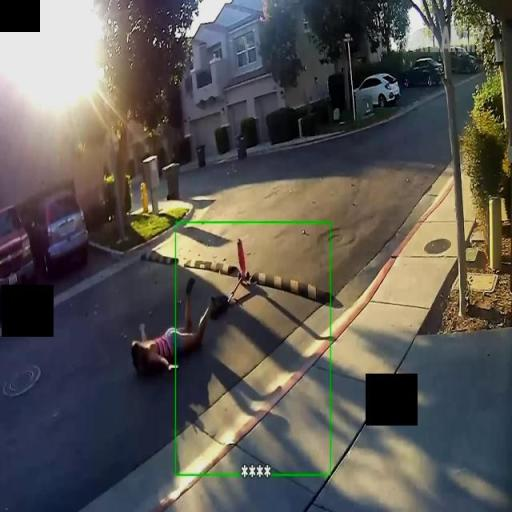Fall: (128, 274, 224, 377)
